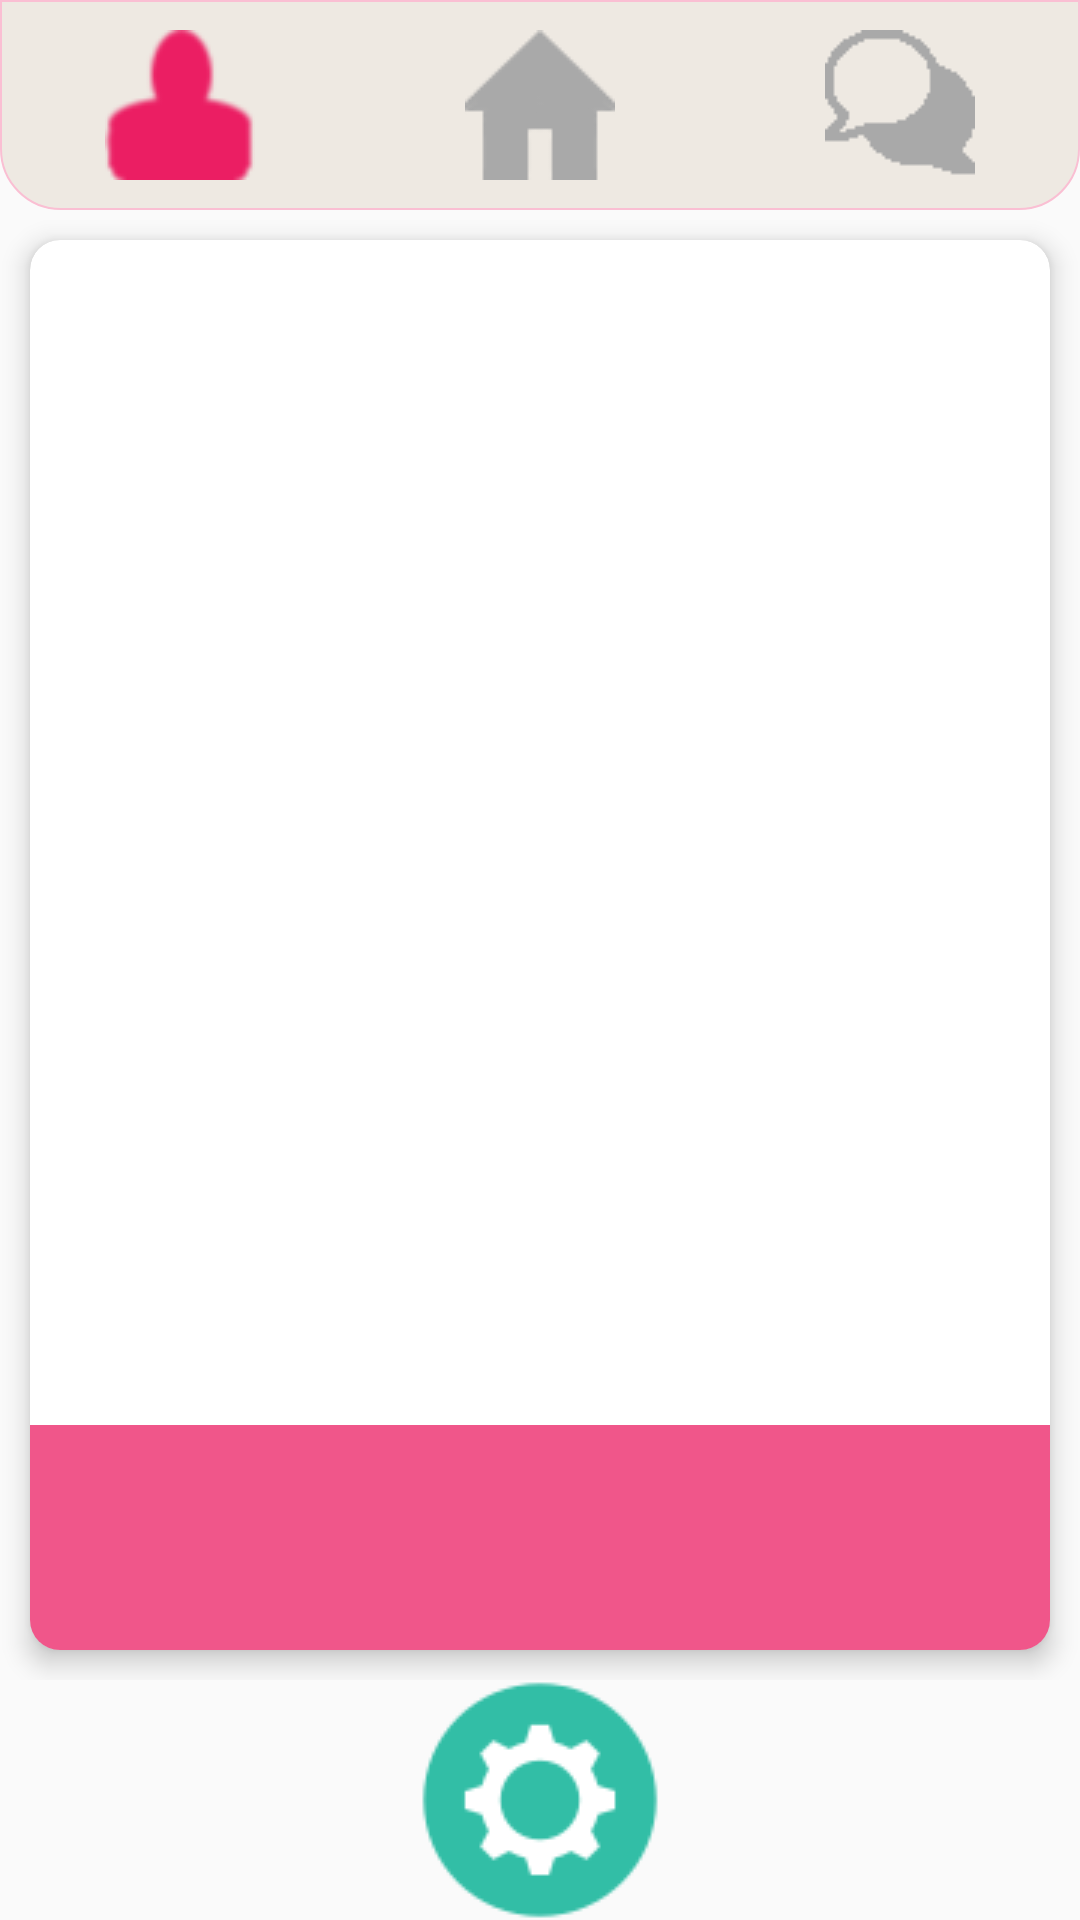

Icons on this 1080 × 1920 Android screen, each with its box as (x1, y1, x2, y2):
settings: (422, 1682, 658, 1918)
